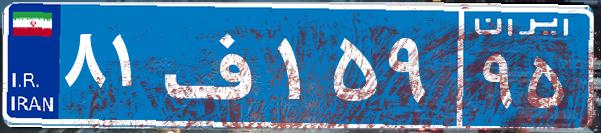1: (273, 28, 330, 110), (110, 28, 158, 105)
5: (330, 28, 385, 110), (525, 38, 570, 115)
8: (57, 26, 110, 107)
9: (385, 28, 445, 110), (475, 38, 525, 113)
ف: (158, 15, 273, 115)
